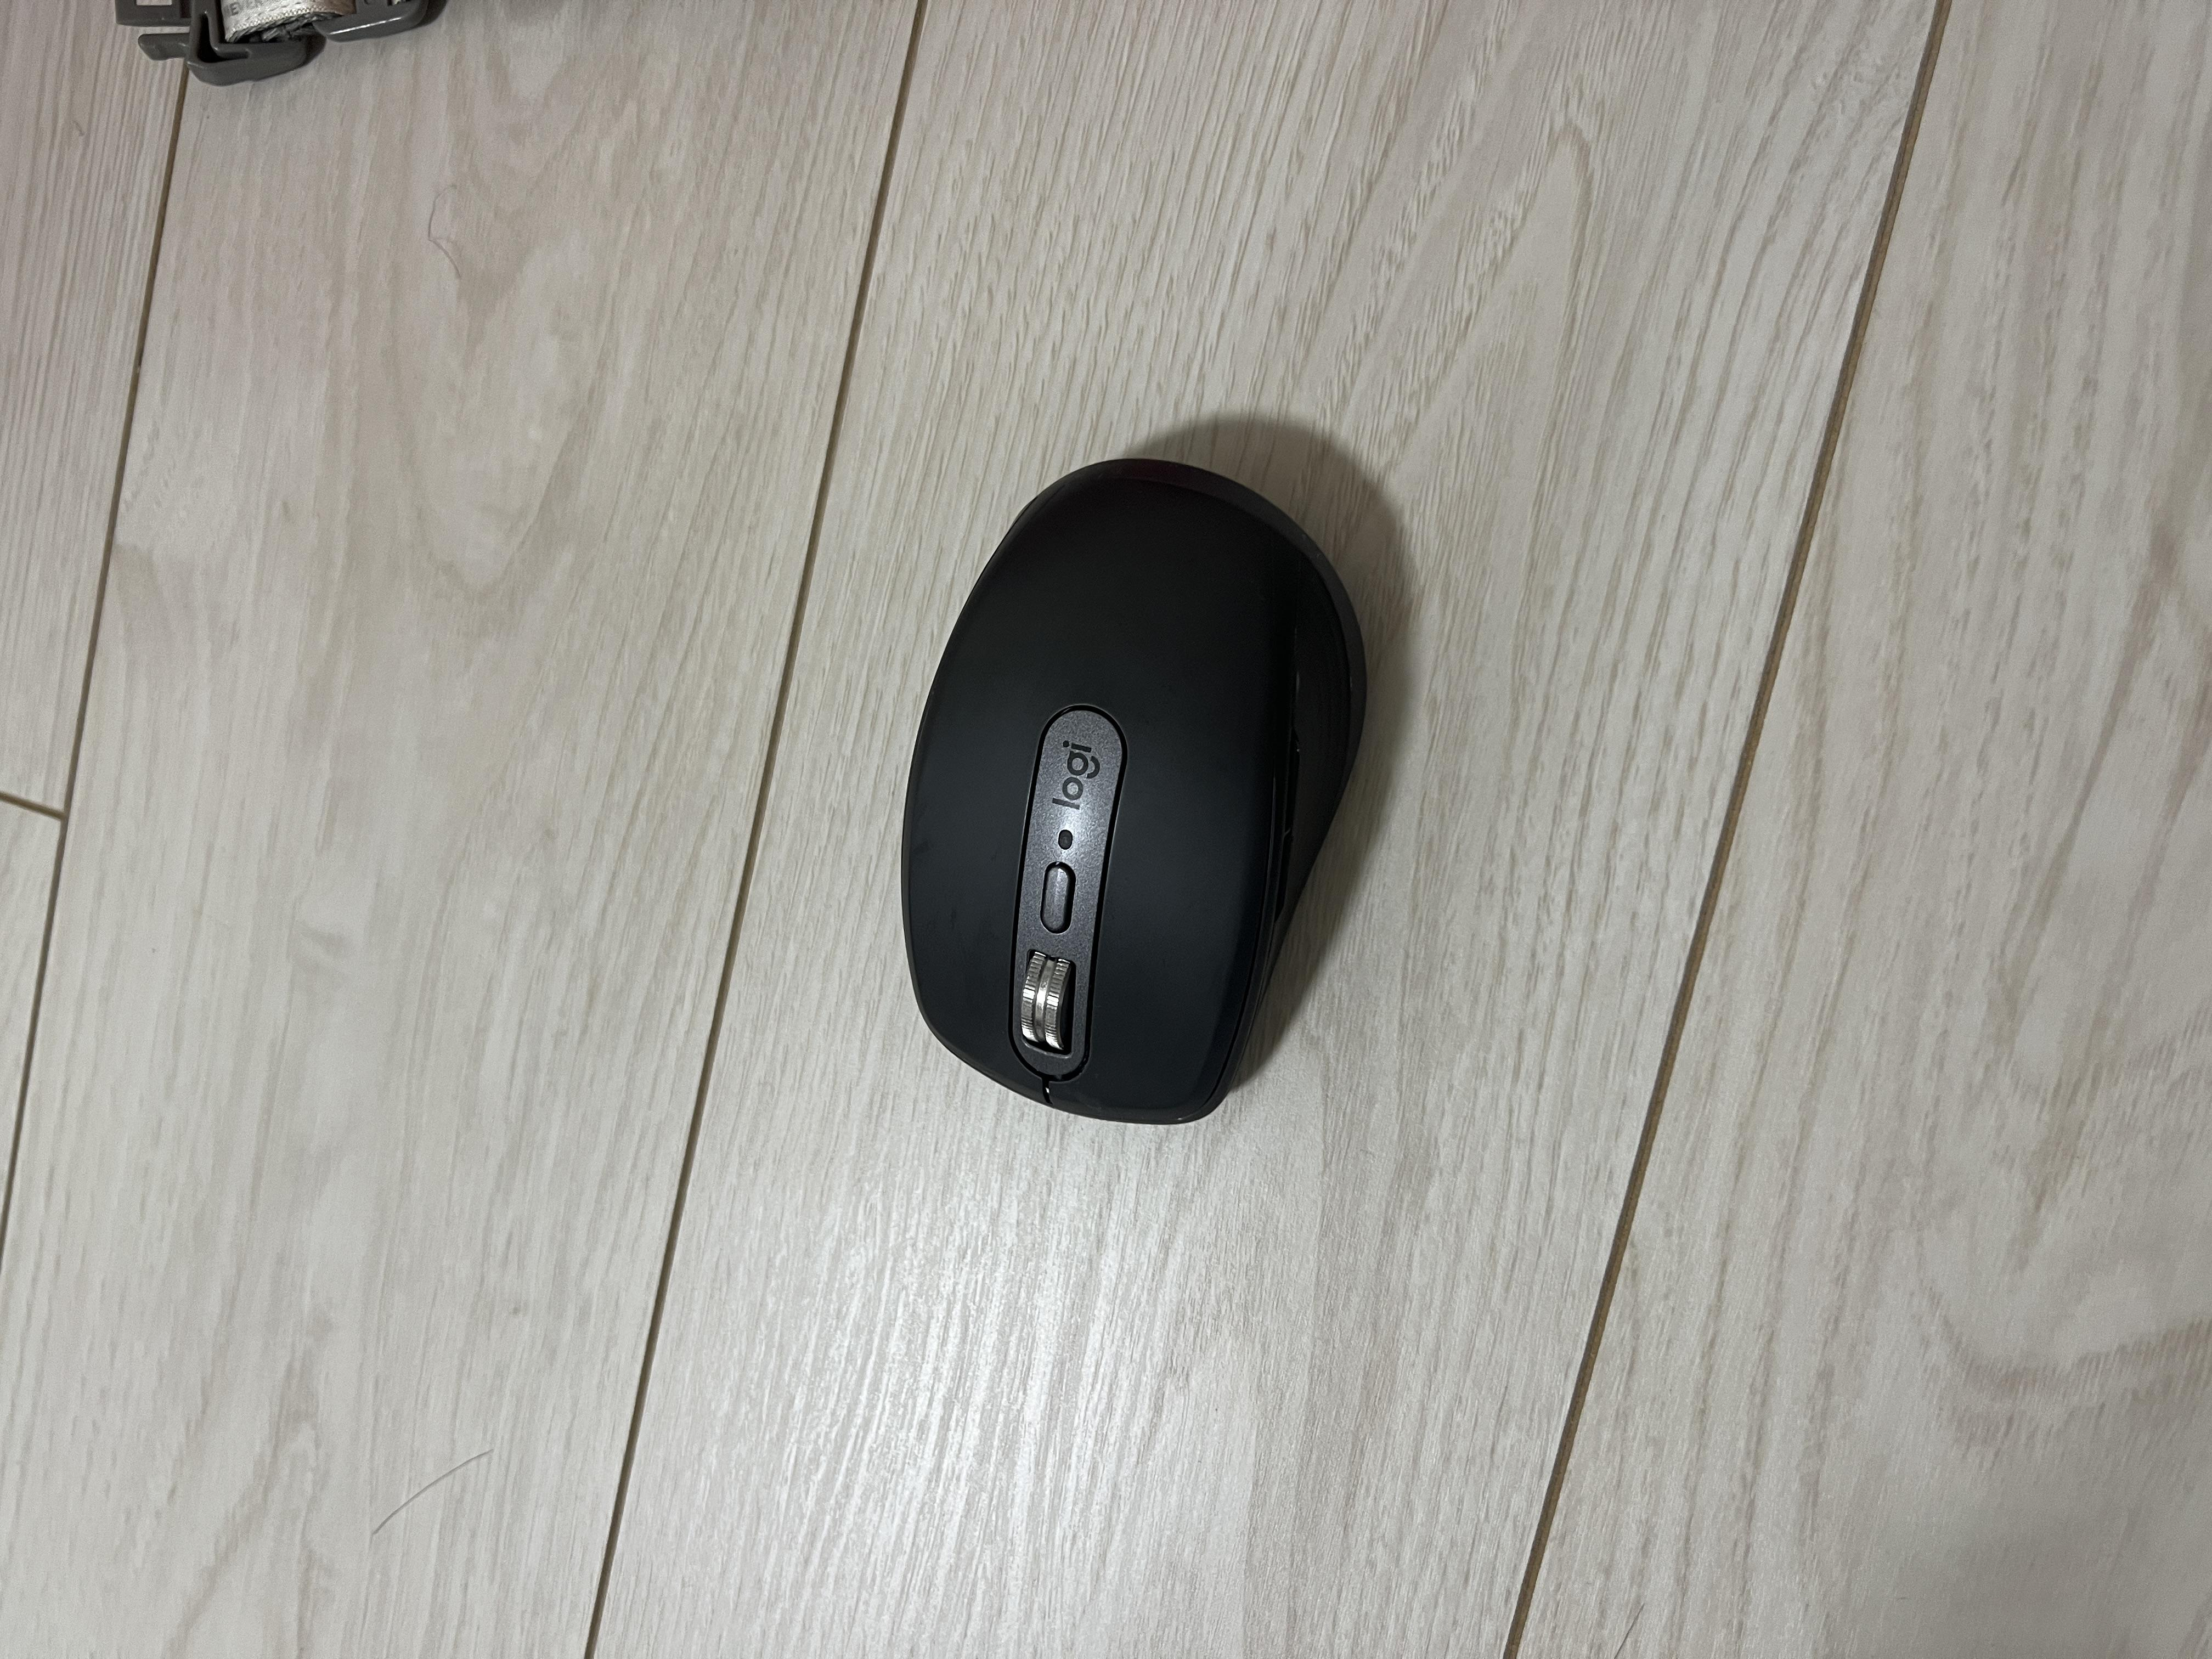mouse: (725, 674, 1615, 1044)
